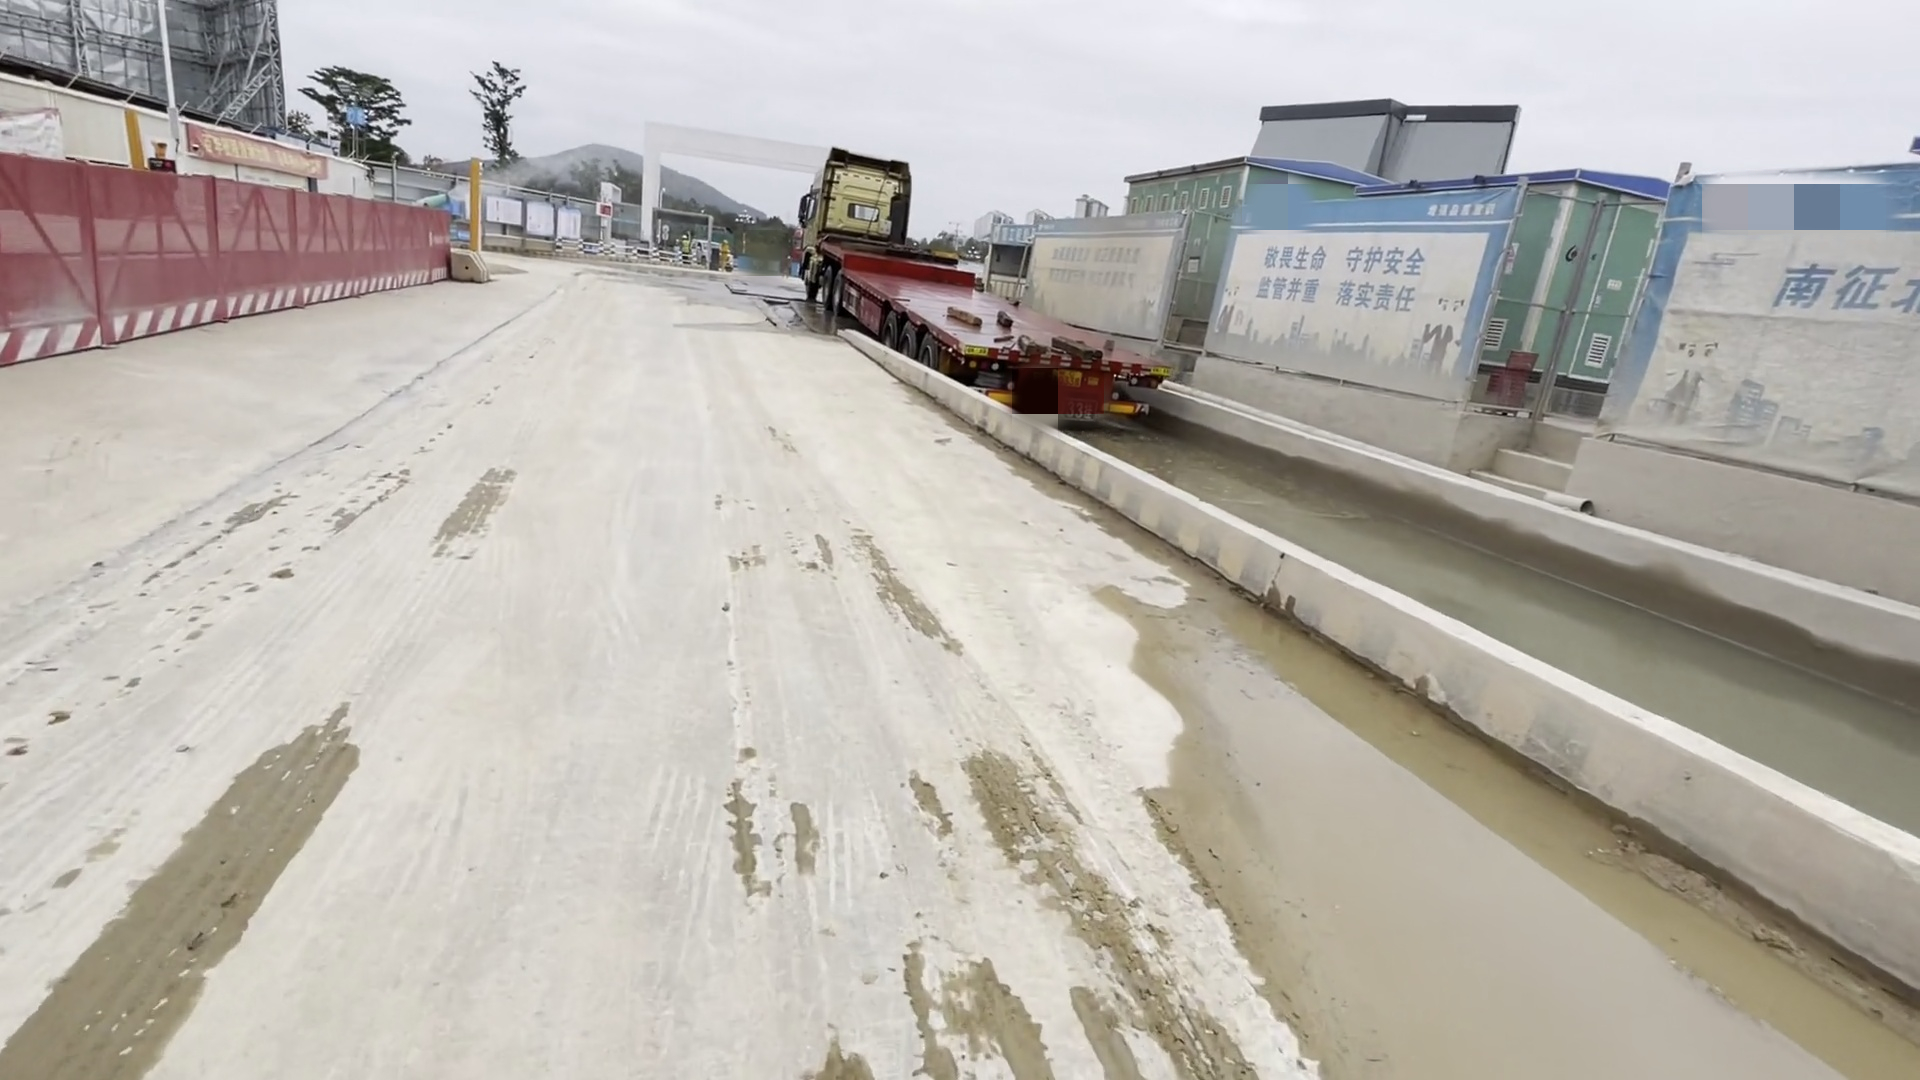slogan: (1229, 190, 1487, 388), (1705, 241, 1920, 386), (1021, 228, 1156, 305), (175, 113, 349, 173)
